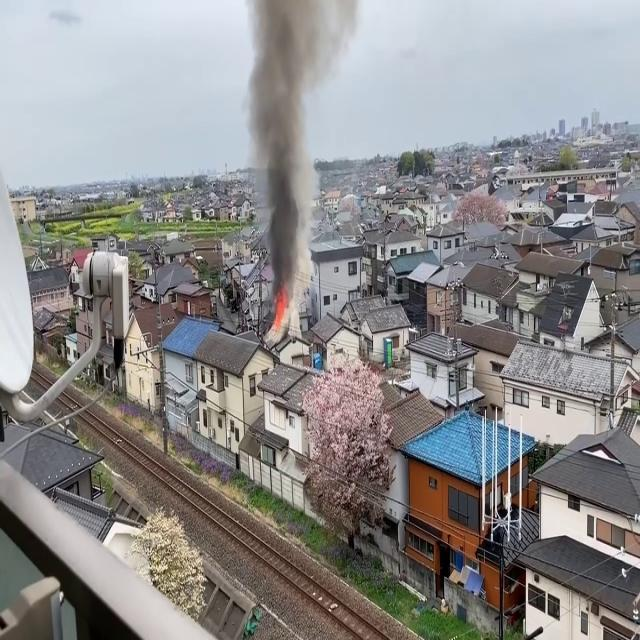Fire: (268, 286, 292, 337)
Smoke: (242, 1, 330, 306)
